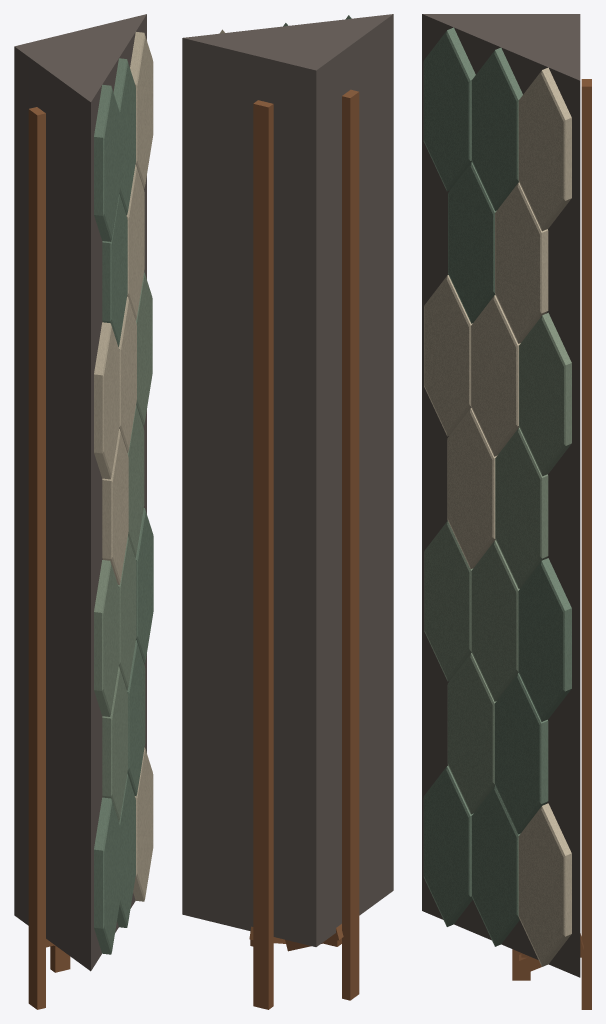
3 views of the same model, side by side, from view 1: azimuth 30°, elevation 25°; view 2: azimuth 150°, elevation 25°; view 3: azimuth 270°, elevation 25° (orthographic). The views are drawn at different scales.
Visible parts, largest first — view 1: triangular-core, x-rail, felt-1-1, felt-7-1, felt-5-1, felt-3-1, felt-4-1, felt-2-1, felt-6-1, felt-7-3, felt-7-2, felt-1-3 (+9 smaller); view 2: triangular-core, z-rail, x-rail; view 3: triangular-core, z-rail, felt-3-3, felt-1-3, felt-7-3, felt-5-3, felt-2-2, felt-6-2, felt-4-2, felt-7-1, felt-7-2, felt-1-1 (+8 smaller).
Part boxes in pixels (x1,y1,x2,y2): triangular-core: (14,14,146,971); x-rail: (28,107,45,1009); felt-1-1: (94,797,119,954); felt-7-1: (94,84,119,241); felt-5-1: (94,322,119,479); felt-3-1: (94,560,118,716); felt-4-1: (102,429,128,584); felt-2-1: (102,666,127,822); felt-6-1: (102,194,127,346); felt-7-3: (130,32,153,188); felt-7-2: (113,58,135,215); felt-1-3: (133,747,153,901); triangular-core: (182,14,393,946); z-rail: (253,100,273,1009); x-rail: (342,89,359,1000); triangular-core: (422,14,580,977); z-rail: (581,79,591,1009); felt-3-3: (518,558,571,721); felt-1-3: (518,803,571,966); felt-7-3: (518,67,571,231); felt-5-3: (519,312,571,476); felt-2-2: (494,673,548,834); felt-6-2: (495,182,548,343); felt-4-2: (495,427,548,588); felt-7-1: (423,27,475,191); felt-7-2: (471,47,522,210); felt-1-1: (423,766,473,926).
Bounding box in the file's own units: 0.35 × 2.2 × 0.35.
Materials: 25 (18 with a texture image).
